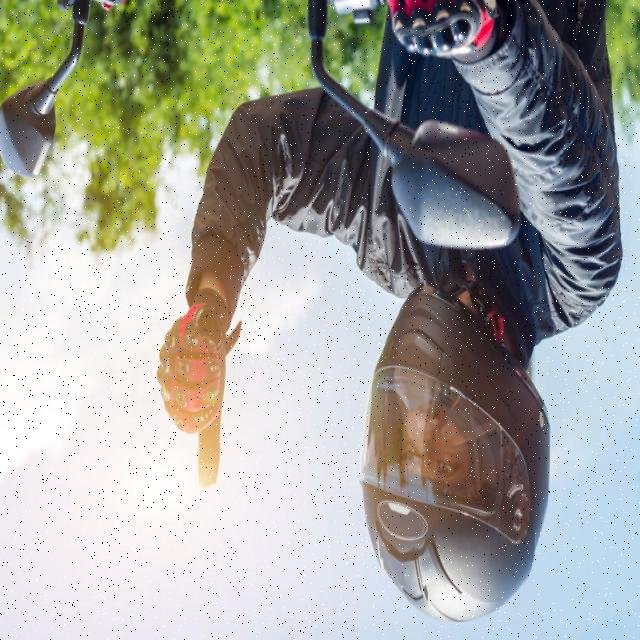Helmet: (360, 279, 551, 621)
